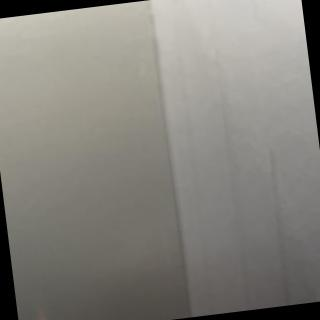fire: (36, 316, 60, 320)
